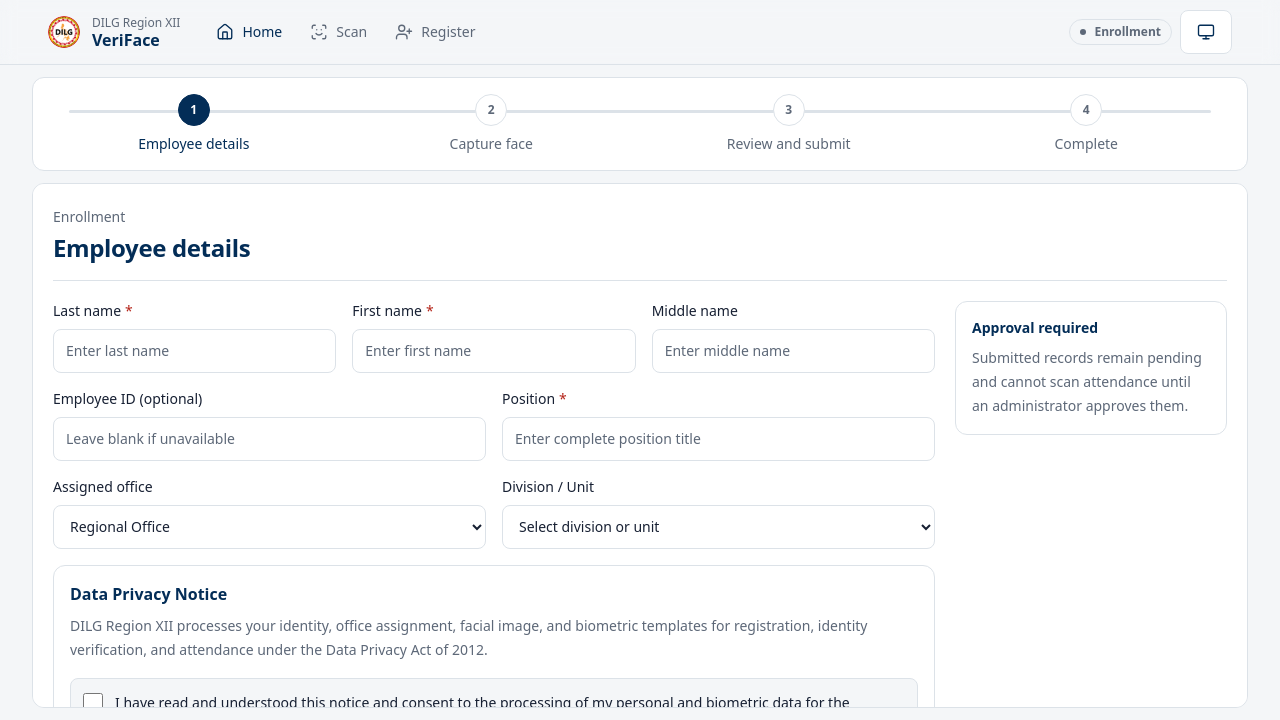
Test: employee registration presentation contracts › requires privacy consent and Regional Office division
The width and height of the screenshot is (1280, 720).
In the field labelled "Last name*": coordinates (195, 351) [53,329,336,373], type "Santos"
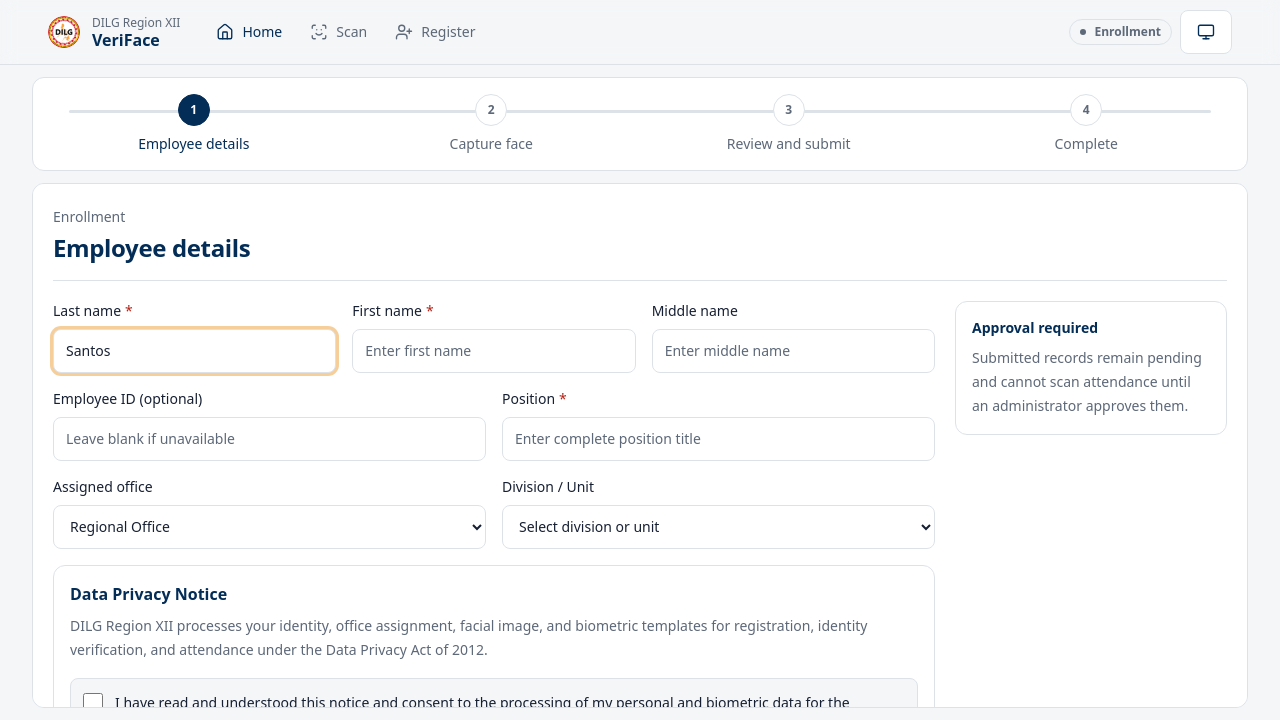
In the field labelled "First name*": coordinates (494, 351) [352,329,636,373], type "Maria"
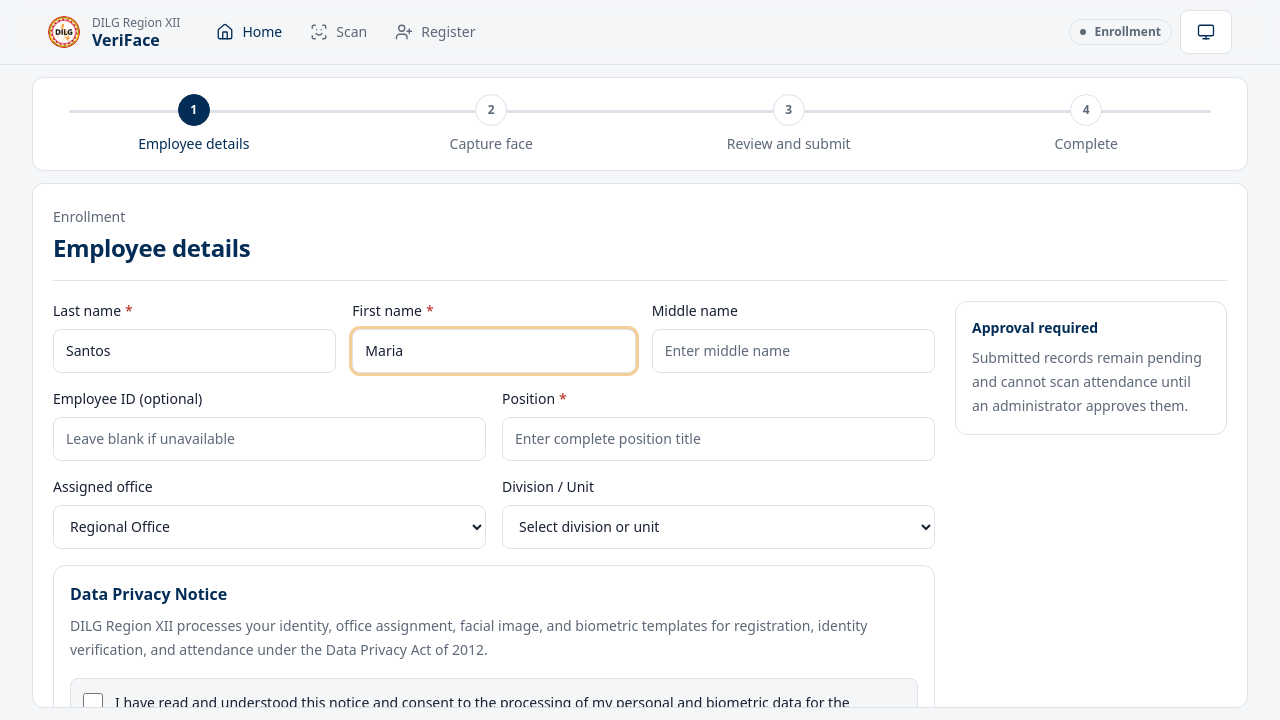
In the field labelled "Position*": coordinates (718, 439) [502,417,935,461], type "Officer"
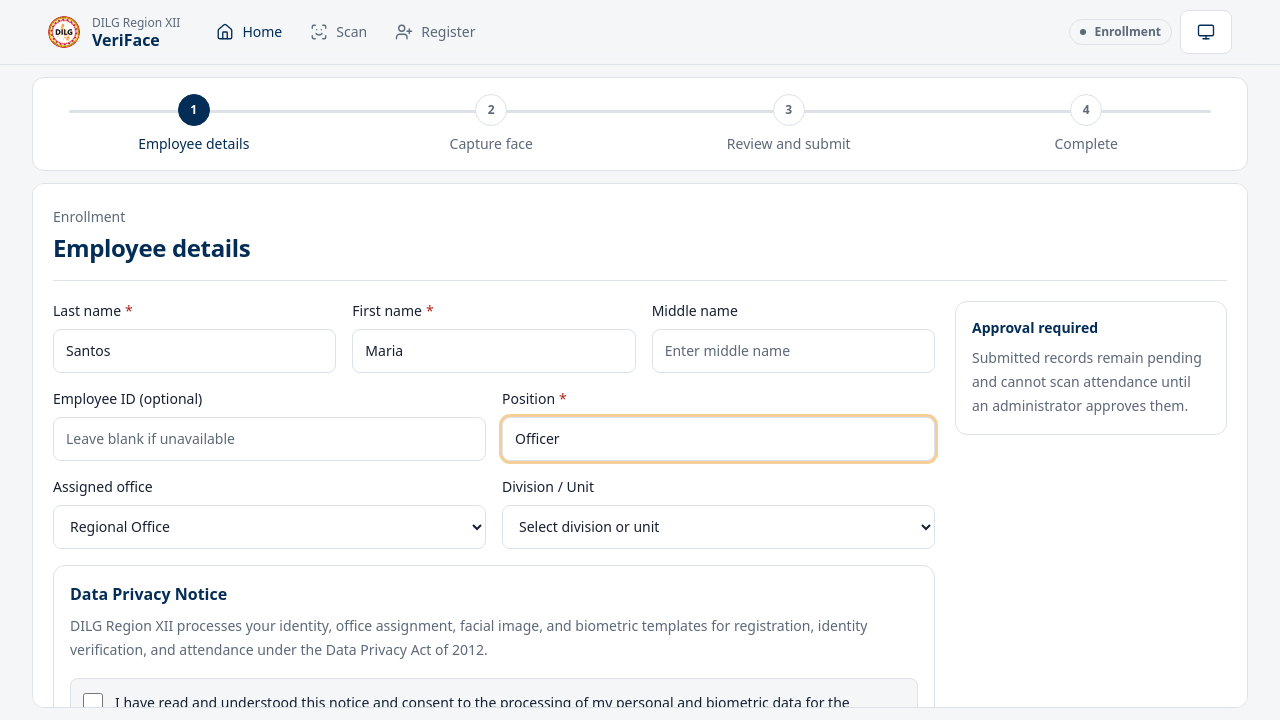
Click the checkbox labelled "consent to the processing": coordinates (93, 703) [83,693,103,713]
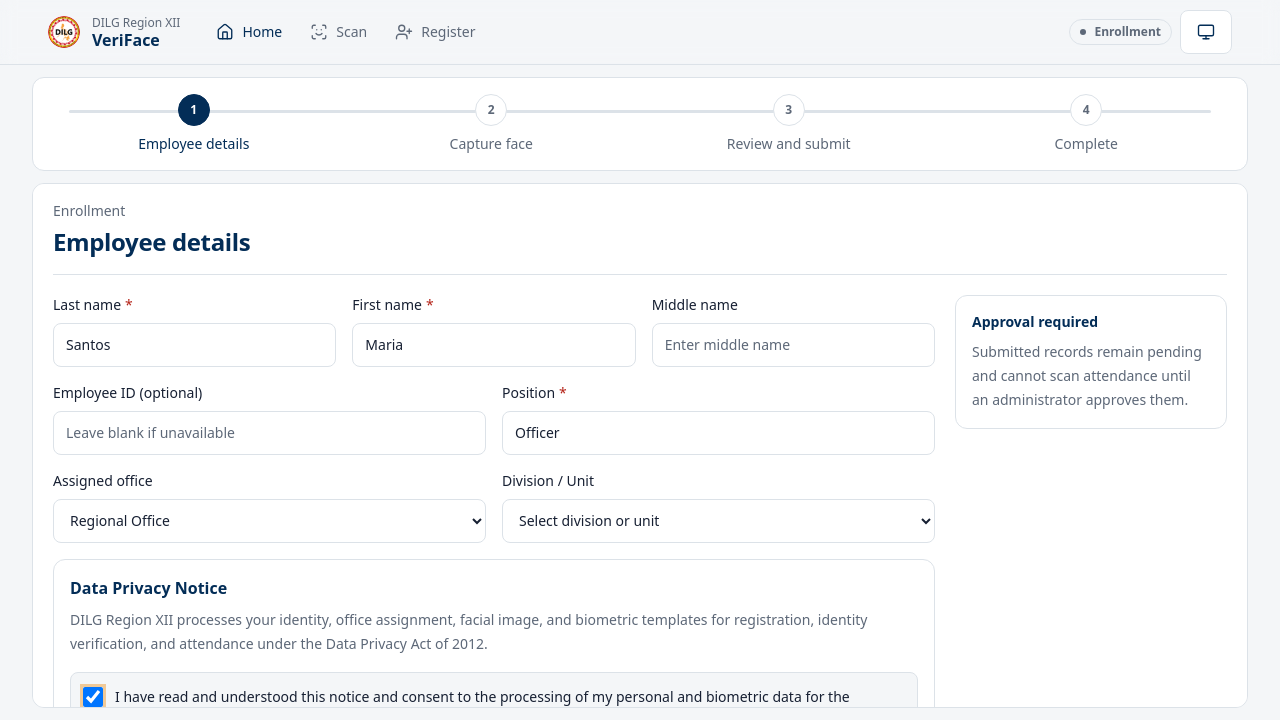
Select "AD — Administrative Division" in the dropdown labelled "Division / Unit": coordinates (718, 521) [502,499,935,543]
(page scrolled)
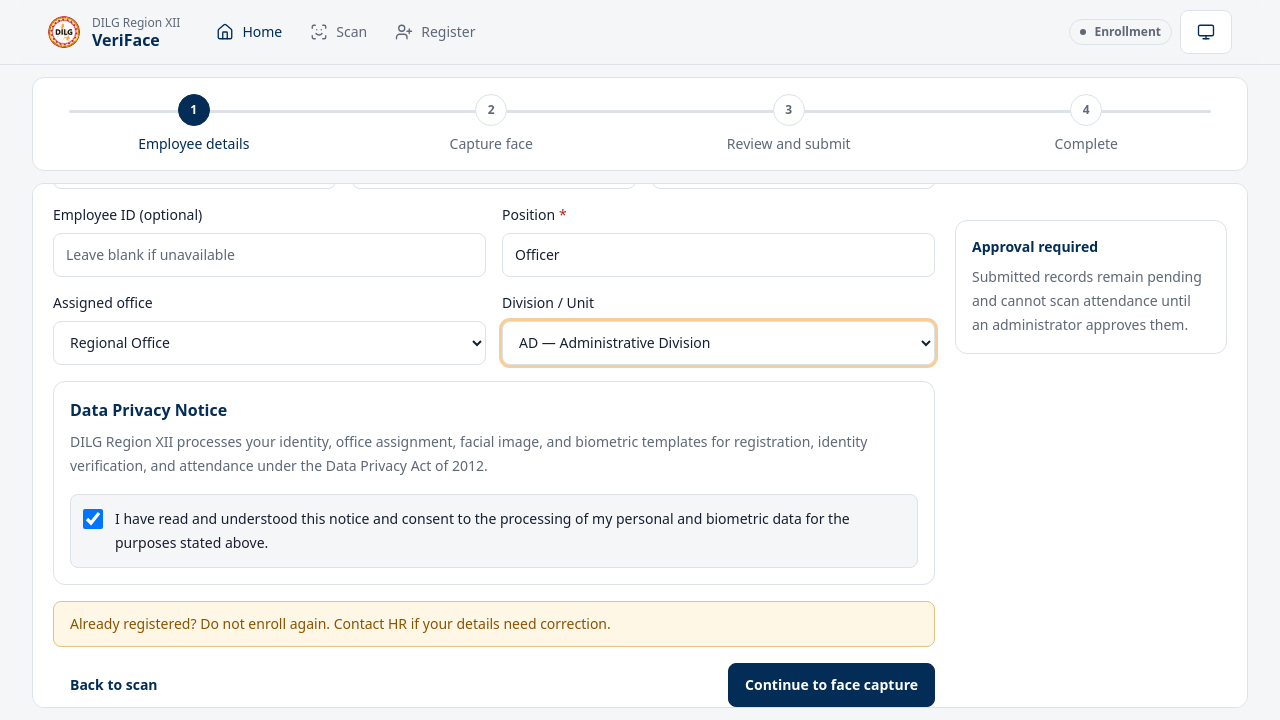
Expected: the button "Continue to face capture" is enabled, [728,663,935,707]
